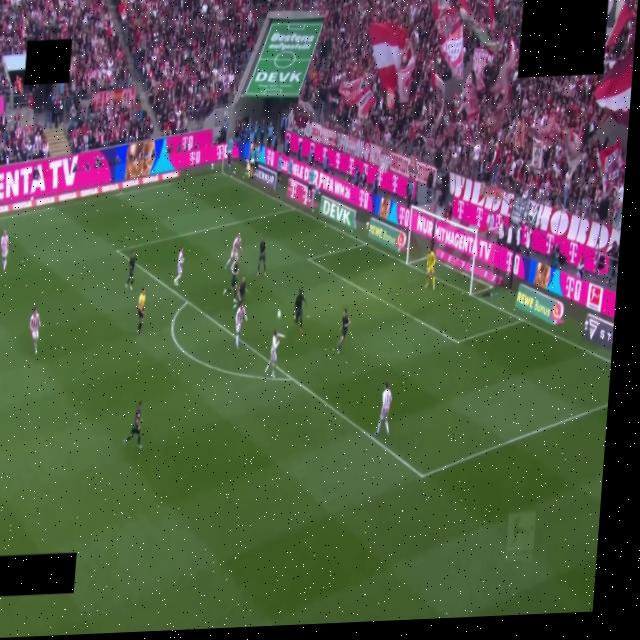ball: (277, 310, 281, 319)
player: (265, 331, 284, 378), (375, 382, 391, 437), (124, 400, 142, 448), (233, 301, 249, 349), (223, 260, 238, 303), (225, 235, 242, 268), (337, 310, 350, 353), (294, 290, 306, 333), (30, 308, 40, 354), (425, 247, 435, 290), (173, 247, 184, 286), (126, 250, 135, 289), (257, 237, 266, 275), (1, 230, 9, 271), (237, 276, 247, 303)
referee: (137, 288, 145, 335)
